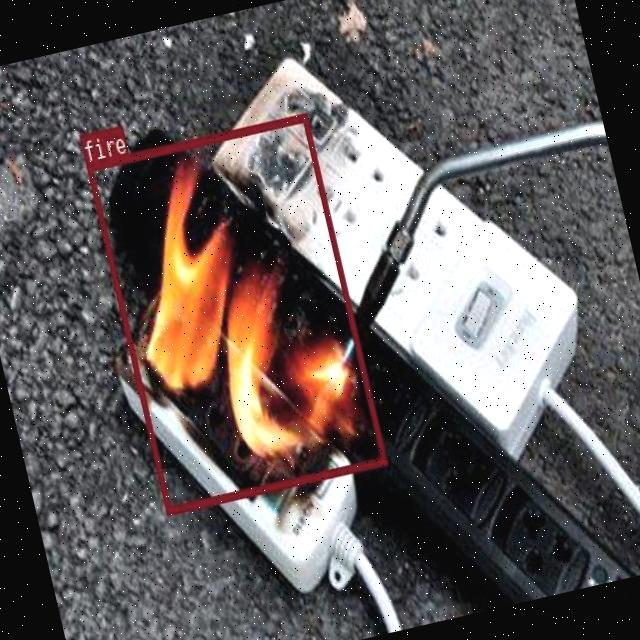fire: (84, 111, 386, 514)
